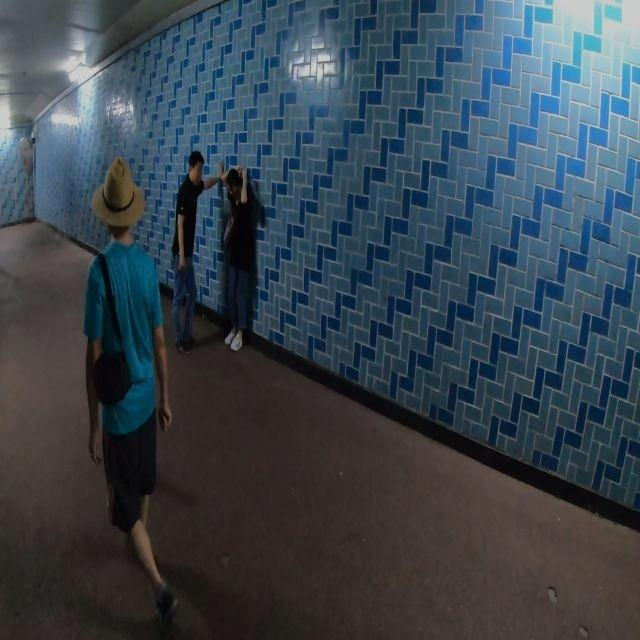fight: (169, 147, 268, 355)
non-fight: (76, 203, 182, 628)
